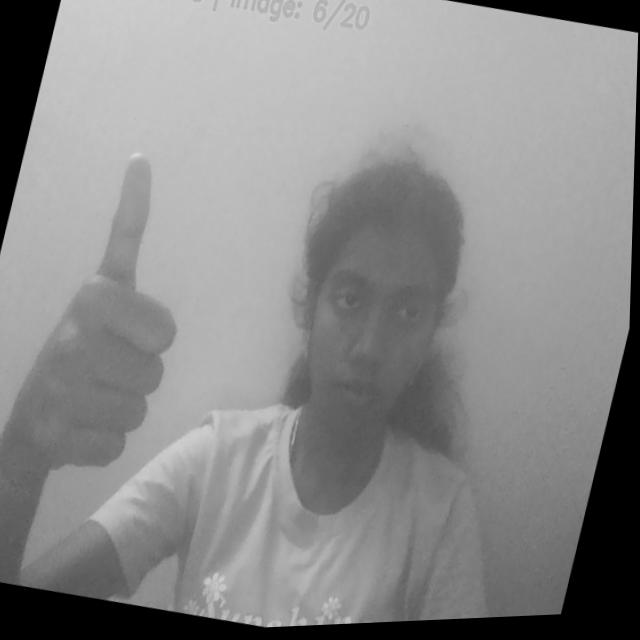Good: (0, 130, 222, 502)
